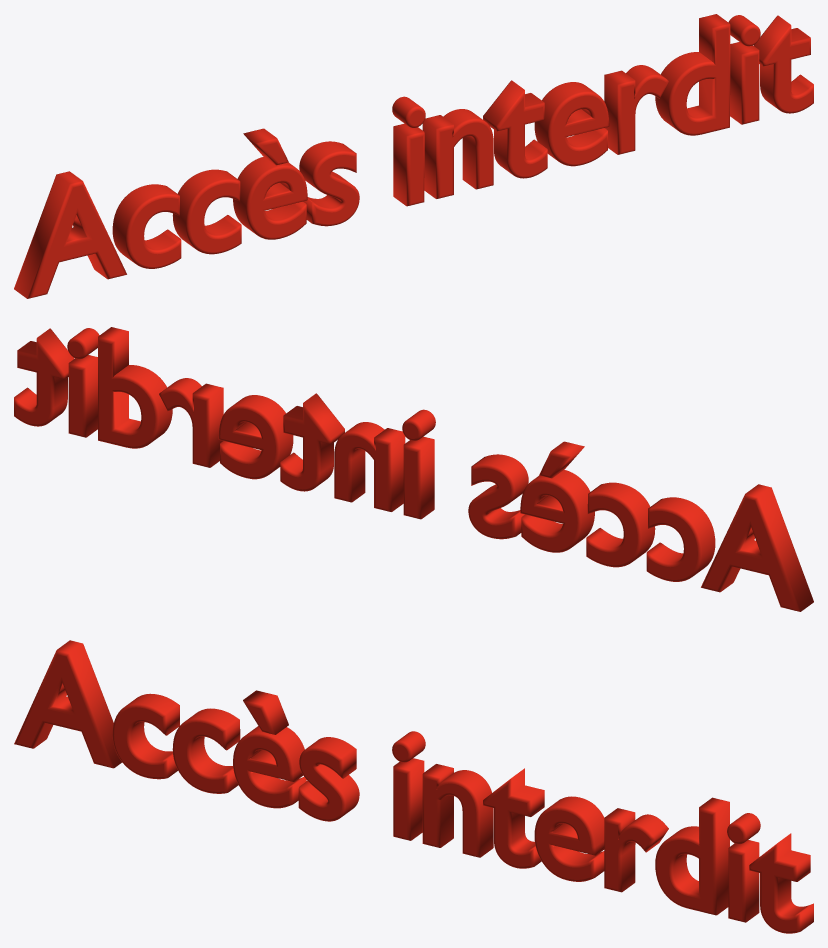
File: texte.fbx
The picture shows the model from 3 angles, top to bottom: view 1: azimuth 30°, elevation 25°; view 2: azimuth 150°, elevation 25°; view 3: azimuth 330°, elevation 25°; orthographic projection.
Parts seen in each view (by area): view 1: Texte; view 2: Texte; view 3: Texte.
Boxes of the visible parts, x1,y1,x2,y2 form: Texte: (14,14,813,298); Texte: (14,327,813,611); Texte: (14,640,813,933).
Size of the model in its own units: 572 by 73.51 by 20.05.
